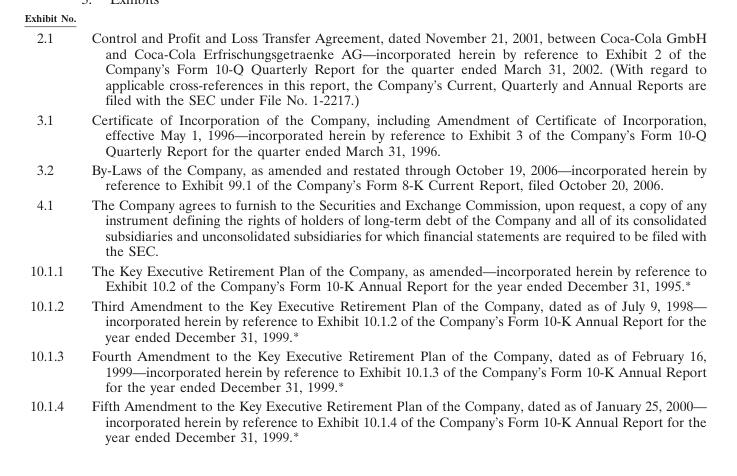table: (29, 29, 705, 444)
table column: (76, 29, 705, 444), (29, 29, 76, 444)
table row: (29, 29, 705, 109), (29, 194, 705, 260), (29, 109, 705, 159), (29, 295, 705, 345), (29, 345, 705, 395), (29, 395, 705, 444), (29, 159, 705, 194), (29, 260, 705, 295)
